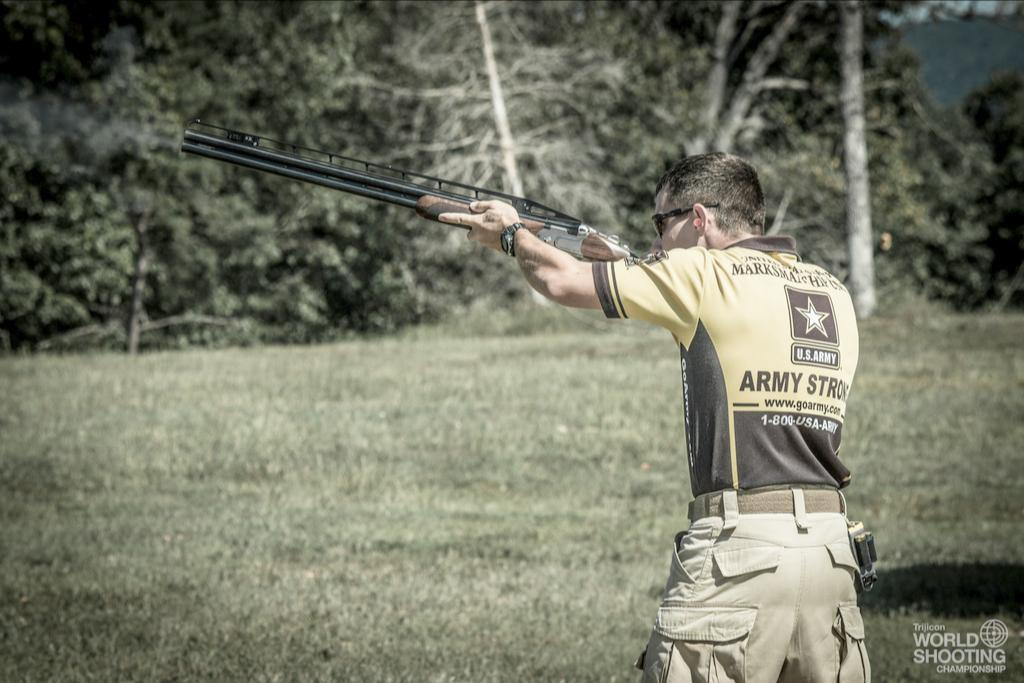gun: (160, 112, 658, 320)
